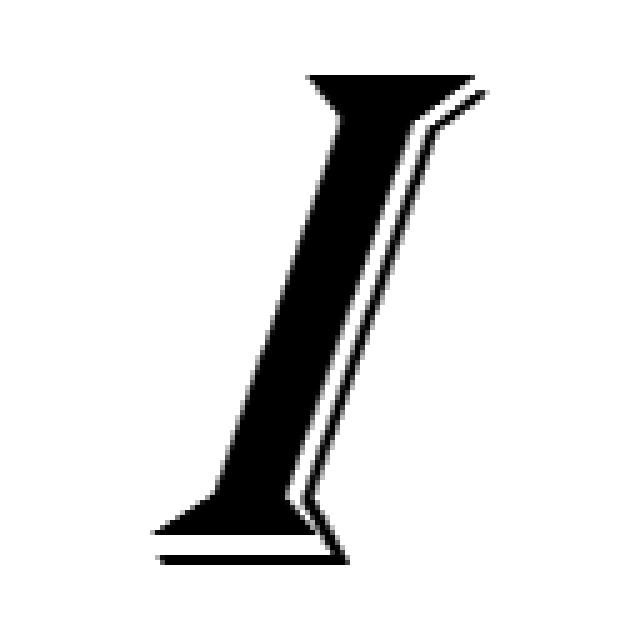I: (150, 75, 485, 565)
